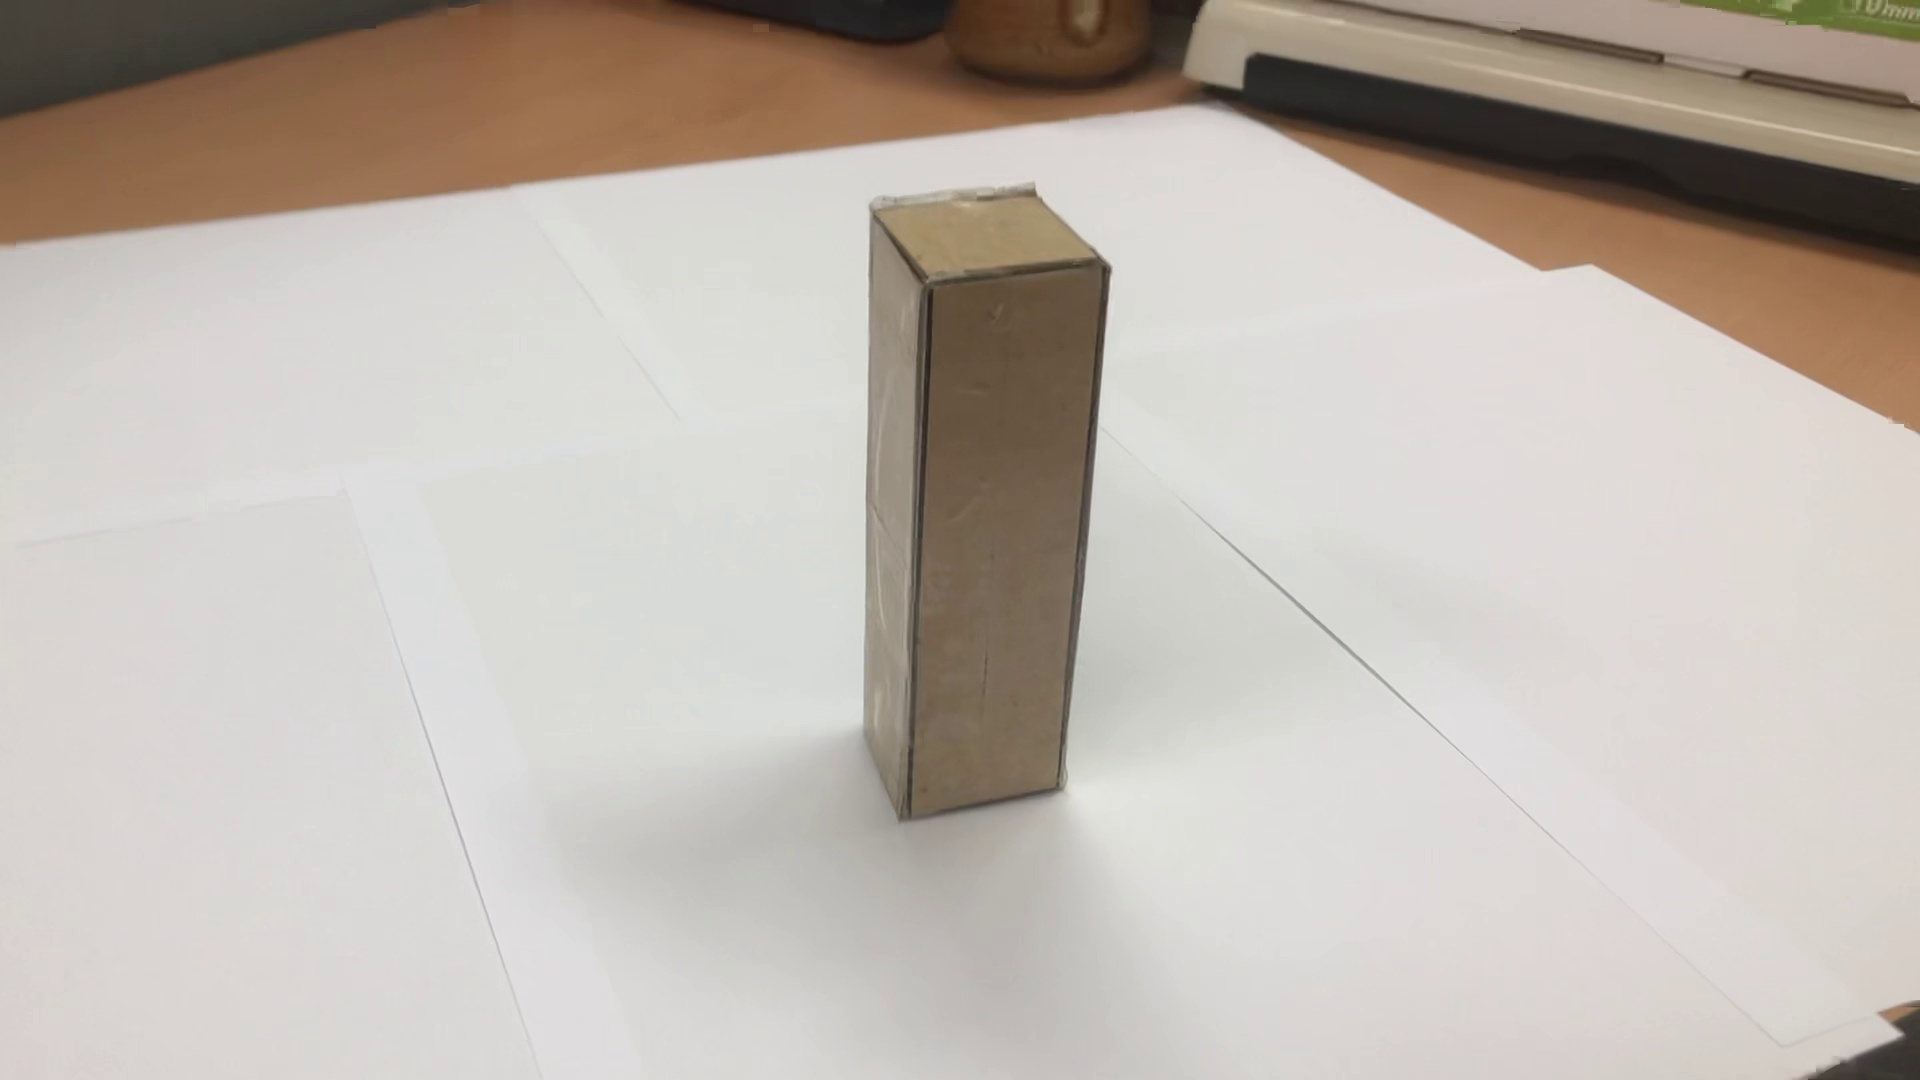box: (818, 167, 1130, 852)
